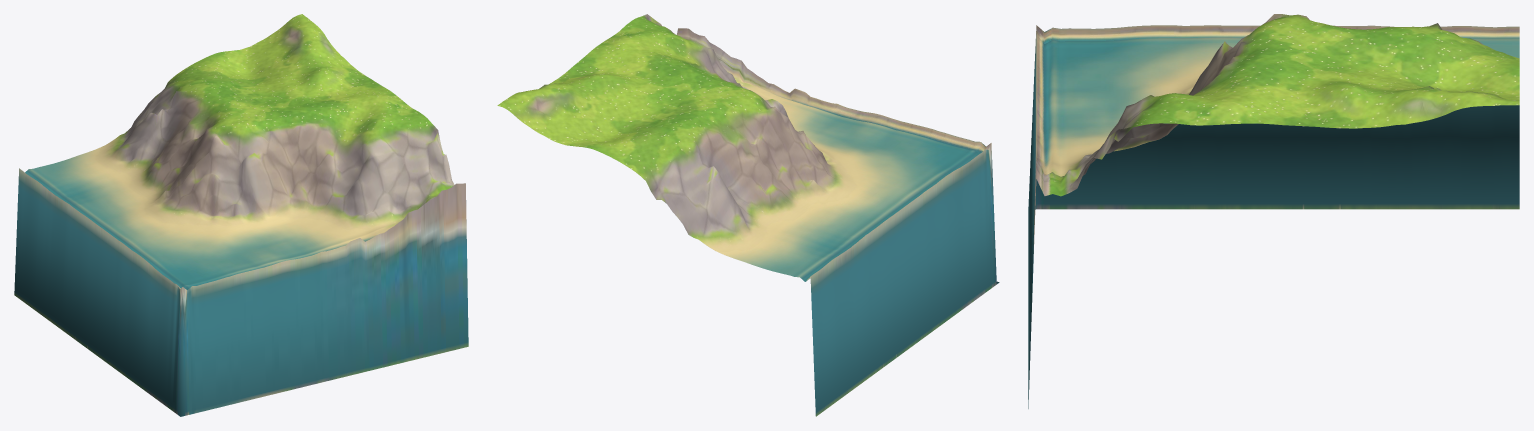
3 renders of one model, left to right at view 1: azimuth 30°, elevation 25°; view 2: azimuth 150°, elevation 25°; view 3: azimuth 270°, elevation 25°, orthographic. The views are drawn at different scales.
Visible parts, largest first — view 1: t000_000; view 2: t000_000; view 3: t000_000.
Boxes of the visible parts, x1,y1,x2,y2 form: t000_000: [14, 14, 468, 416]; t000_000: [497, 14, 999, 416]; t000_000: [1028, 14, 1519, 408].
Bounding box in the file's own units: 64 × 45.1 × 64.
1 material, 1 textured.
